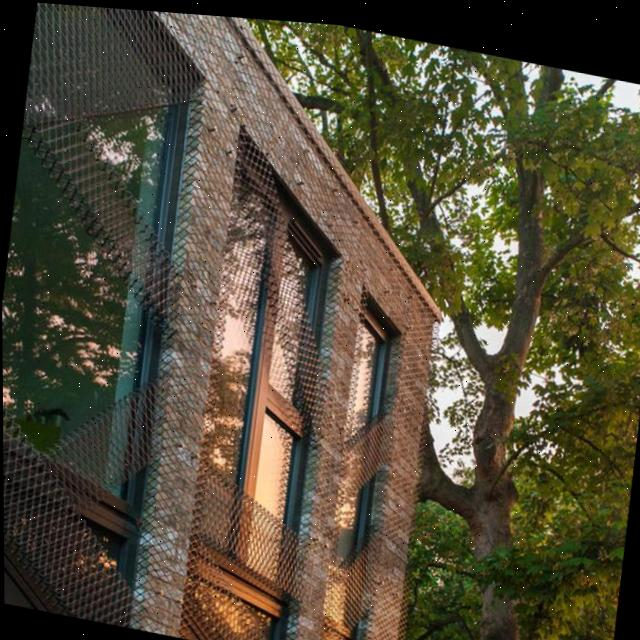building: (0, 0, 476, 640)
